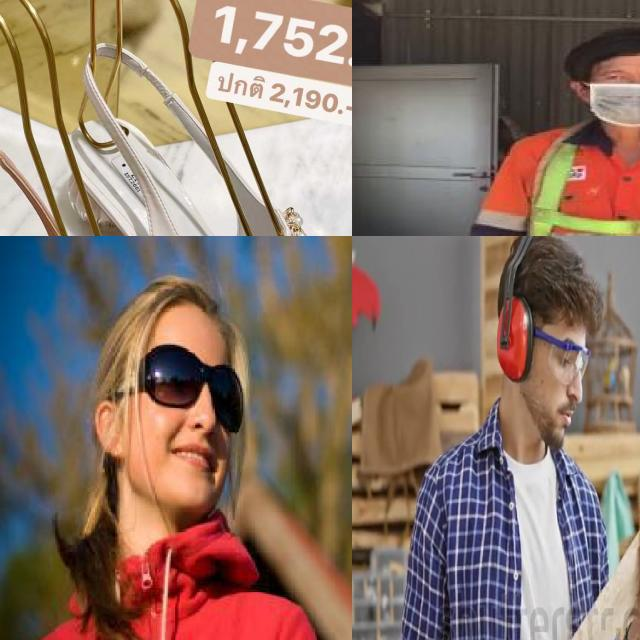Ear-protection: (493, 282, 538, 398)
No_Ear-Protection: (93, 401, 128, 463)
Sandals: (68, 20, 352, 236), (0, 78, 260, 236)
face_mask: (589, 66, 640, 126)
face_nomask: (136, 341, 240, 479)
glasses: (110, 342, 249, 438), (543, 329, 596, 382)
head_helmet: (571, 25, 640, 71)
head_nohelmet: (115, 280, 233, 344)
person: (0, 279, 342, 640), (385, 236, 640, 640), (462, 34, 640, 236)
